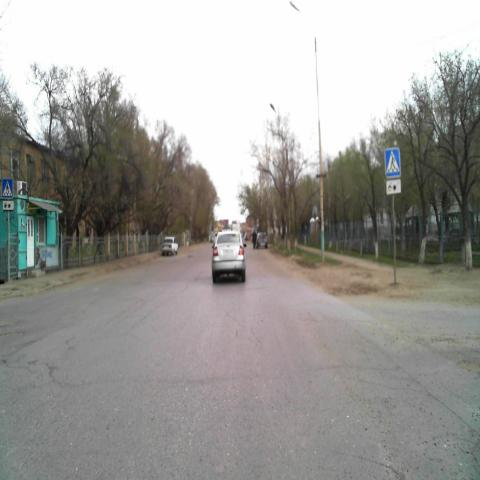8_15: (386, 179, 402, 195), (2, 200, 14, 210)
